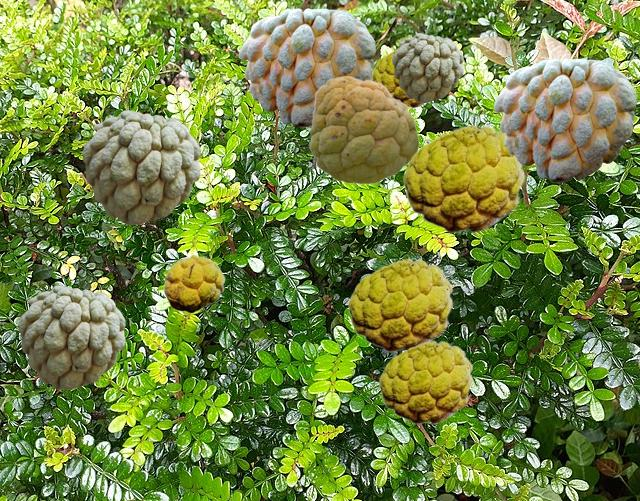atis: (494, 58, 635, 181), (239, 8, 374, 126), (82, 110, 199, 223), (402, 124, 524, 232), (308, 75, 418, 183), (18, 285, 124, 388), (347, 258, 452, 351), (378, 340, 472, 423), (392, 33, 462, 101), (163, 254, 224, 312), (372, 48, 427, 107)
